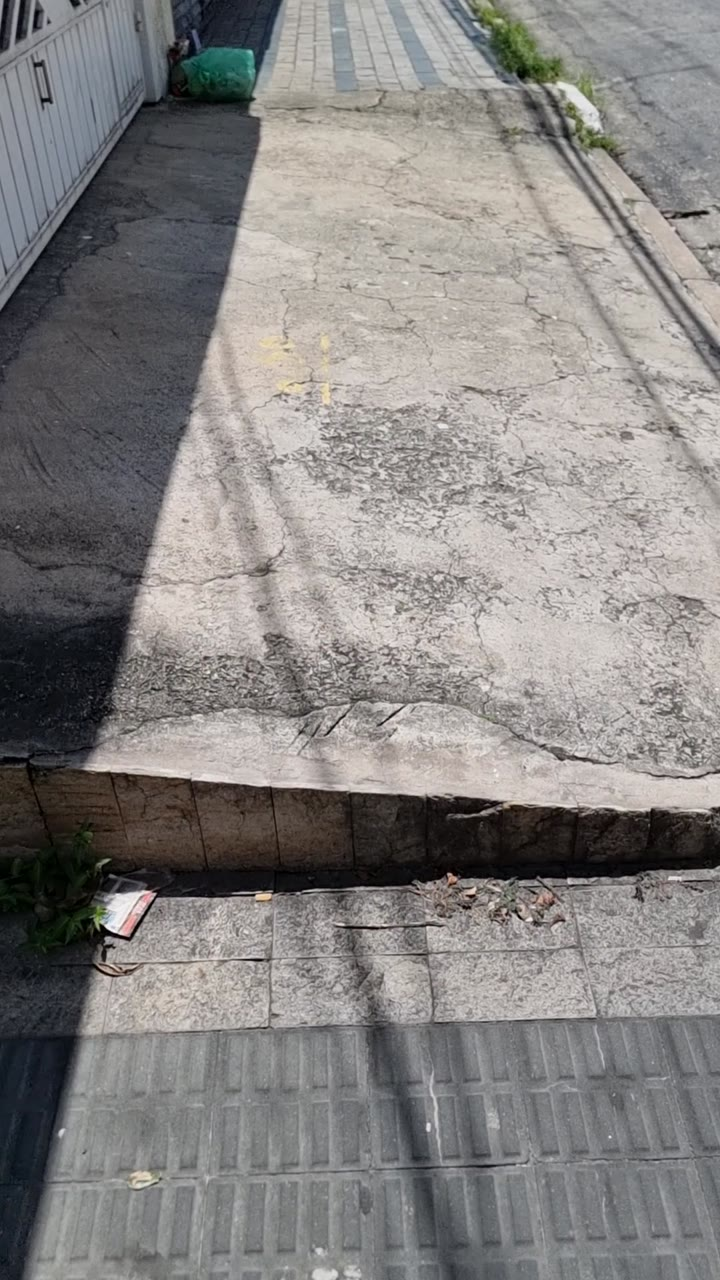desnivel: (0, 730, 720, 883)
obstaculo: (175, 47, 256, 102)
